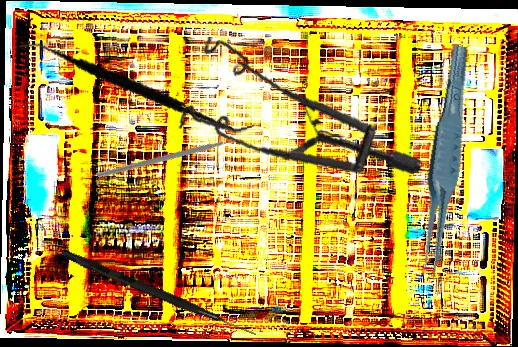Chopper: (95, 83, 251, 239)
Hook Surgical: (59, 249, 259, 338)
Spatula Surgical: (18, 3, 255, 168)
Speculum: (168, 16, 423, 198)
Tissue Forceps: (402, 44, 486, 282)
